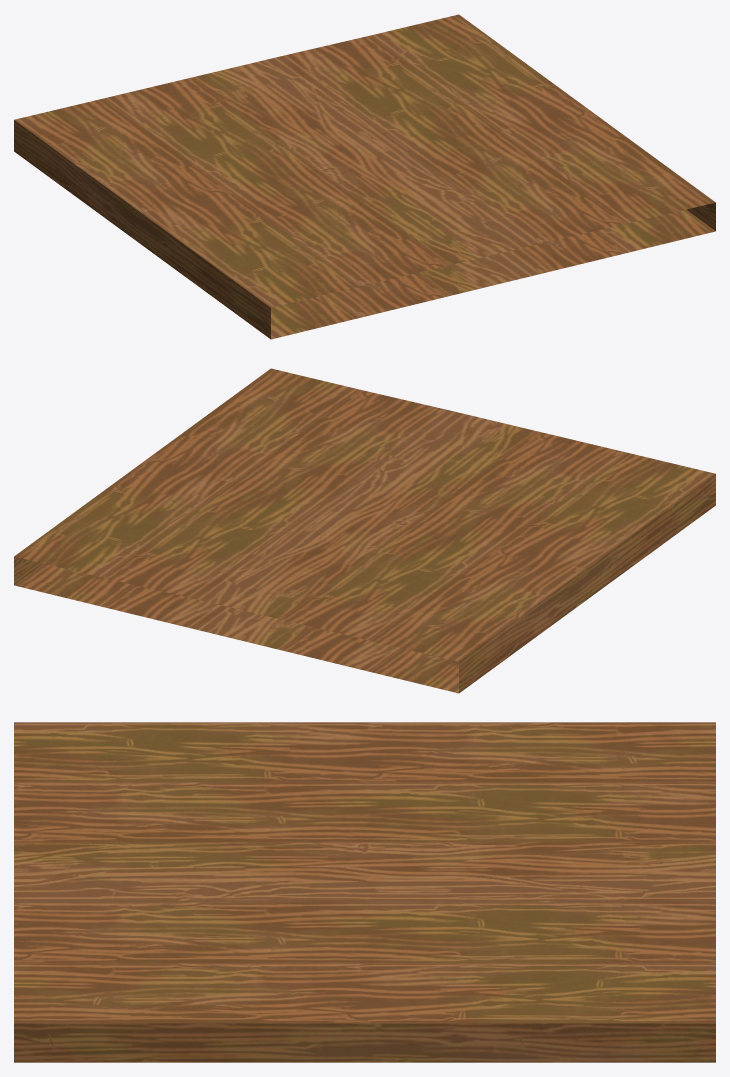
File: Roof_Wooden_2x1_Middle.glb
3 renders of one model, top to bottom at view 1: azimuth 30°, elevation 25°; view 2: azimuth 150°, elevation 25°; view 3: azimuth 270°, elevation 25°, orthographic. The views are drawn at different scales.
Visible parts, largest first — view 1: Roof_Wooden_2x1_Middle; view 2: Roof_Wooden_2x1_Middle; view 3: Roof_Wooden_2x1_Middle.
Boxes of the visible parts, <box> form: Roof_Wooden_2x1_Middle: <box>14,14,715,339</box>; Roof_Wooden_2x1_Middle: <box>14,368,715,693</box>; Roof_Wooden_2x1_Middle: <box>14,722,715,1062</box>.
Bounding box in the file's own units: 2 × 0.1379 × 2.
1 material, 1 textured.
